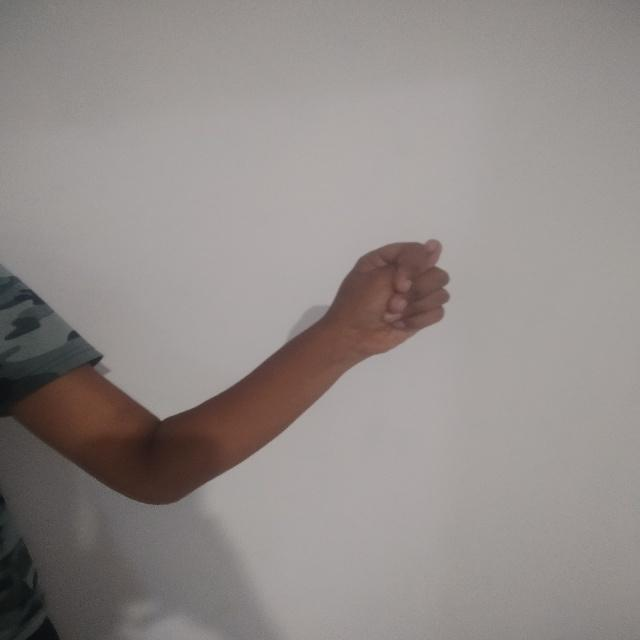Dulya: (318, 226, 464, 389)
